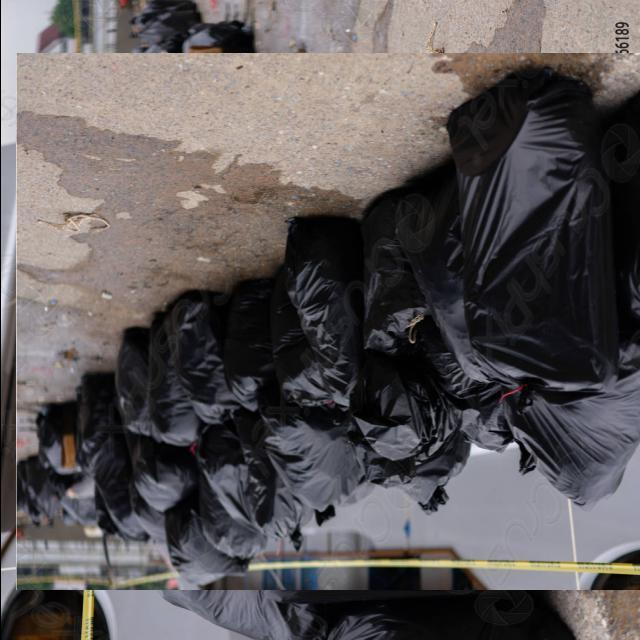Trashbag: (441, 72, 617, 370), (504, 378, 635, 504), (287, 202, 373, 359), (259, 411, 369, 508), (357, 361, 455, 466), (367, 172, 421, 352), (120, 304, 186, 448), (166, 494, 254, 595), (176, 285, 232, 428), (226, 273, 278, 424), (197, 430, 279, 521), (70, 362, 128, 467), (90, 436, 141, 539), (132, 435, 187, 509)
